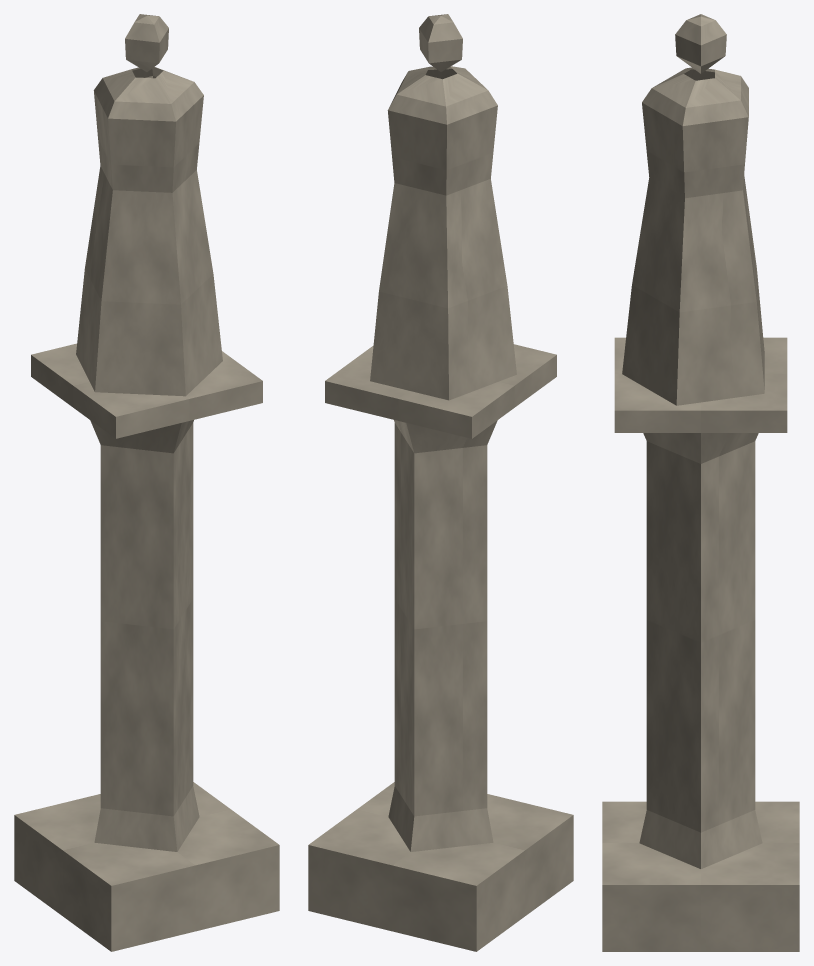
The model's file is Statue_Garden_1_LOD2.gltf.
The picture shows the model from 3 angles, left to right: view 1: azimuth 30°, elevation 25°; view 2: azimuth 150°, elevation 25°; view 3: azimuth 270°, elevation 25°; orthographic projection.
Visible parts, largest first — view 1: Statue_Garden_1_LOD2; view 2: Statue_Garden_1_LOD2; view 3: Statue_Garden_1_LOD2.
Part boxes in pixels (x1=…): Statue_Garden_1_LOD2: x1=14, y1=14, x2=279, y2=951; Statue_Garden_1_LOD2: x1=308, y1=14, x2=573, y2=951; Statue_Garden_1_LOD2: x1=602, y1=14, x2=799, y2=951.
Bounding box in the file's own units: 0.8 × 4 × 0.8.
1 material, 1 textured.
